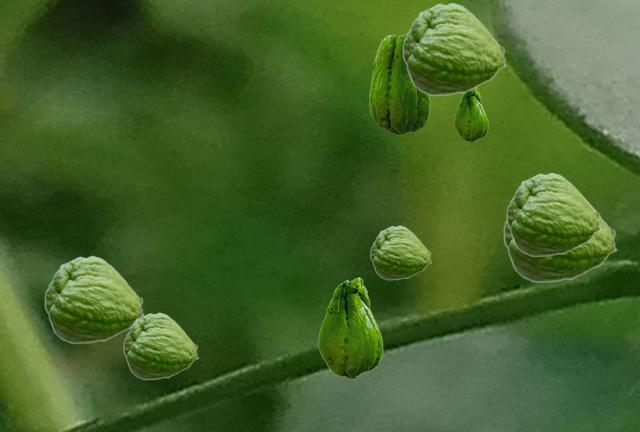sayote: (402, 2, 506, 95), (503, 198, 617, 282), (44, 255, 144, 343), (506, 172, 601, 256), (318, 277, 382, 378), (369, 33, 429, 134), (123, 312, 198, 379), (370, 225, 431, 279), (454, 88, 487, 141)
